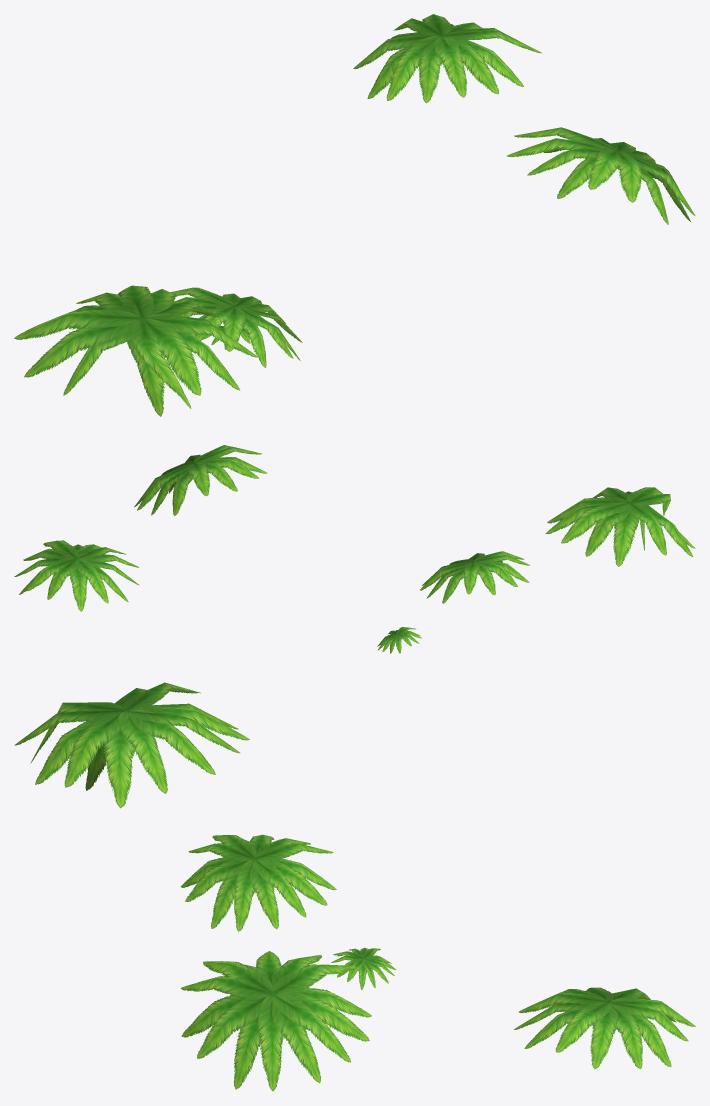
Rendered from PalmCrownRuinsShape.dae.
The picture shows the model from 3 angles, top to bottom: view 1: azimuth 30°, elevation 25°; view 2: azimuth 150°, elevation 25°; view 3: azimuth 270°, elevation 25°; orthographic projection. The views are drawn at different scales.
Parts seen in each view (by area): view 1: PalmCrownRuins; view 2: PalmCrownRuins; view 3: PalmCrownRuins.
Boxes of the visible parts, x1=… form: PalmCrownRuins: x1=14, y1=14, x2=695, y2=416; PalmCrownRuins: x1=14, y1=445, x2=695, y2=653; PalmCrownRuins: x1=14, y1=682, x2=695, y2=1091.
Size of the model in its own units: 70.03 by 15.85 by 57.59.
